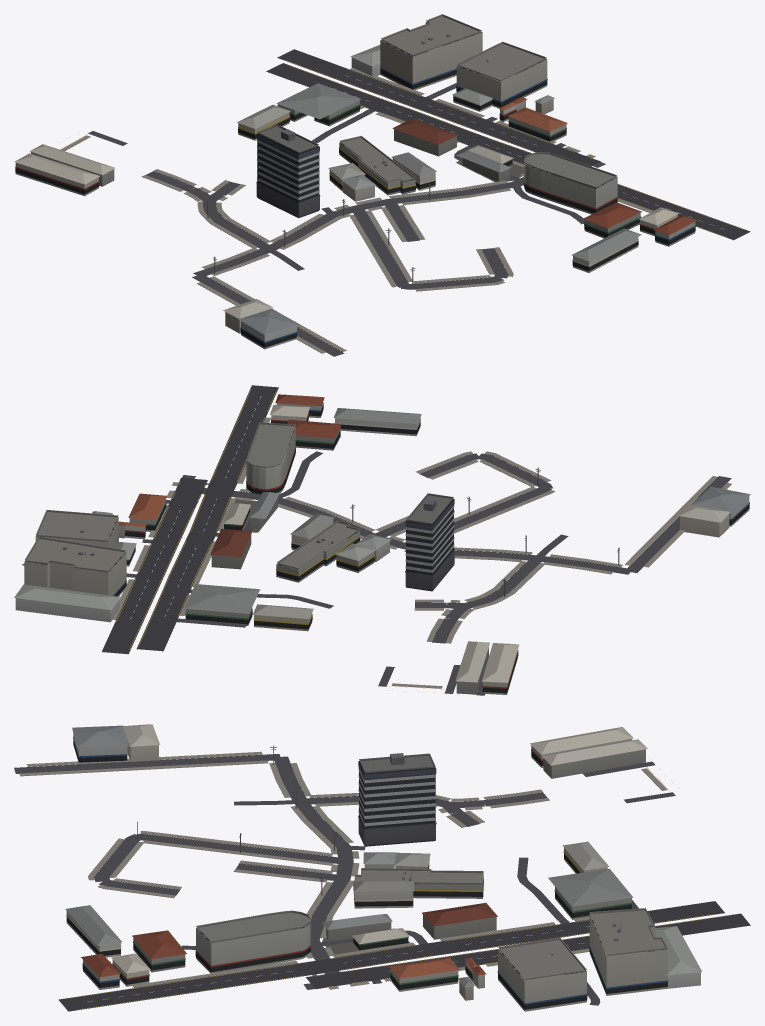
The picture shows the model from 3 angles, top to bottom: view 1: azimuth 30°, elevation 25°; view 2: azimuth 150°, elevation 25°; view 3: azimuth 270°, elevation 25°; orthographic projection. The views are drawn at different scales.
Parts seen in each view (by area): view 1: Buildings__r-14c-8-col, Roads_Major__r-14c-8, Roads_Minor__r-14c-8, Sidewalks__r-14c-8-col, Windows__r-14c-8, Virginia Food Inc.-col, Daughters of Saint Paul-col, Markings__r-14c-8, Kingdom Hall of Jehovah's Witnesses-col; view 2: Buildings__r-14c-8-col, Roads_Major__r-14c-8, Roads_Minor__r-14c-8, Sidewalks__r-14c-8-col, Windows__r-14c-8, Daughters of Saint Paul-col, Virginia Food Inc.-col, Markings__r-14c-8, Kingdom Hall of Jehovah's Witnesses-col, Shell-col; view 3: Buildings__r-14c-8-col, Roads_Minor__r-14c-8, Roads_Major__r-14c-8, Sidewalks__r-14c-8-col, Virginia Food Inc.-col, Windows__r-14c-8, Daughters of Saint Paul-col, Kingdom Hall of Jehovah's Witnesses-col, Shell-col, Markings__r-14c-8.
Part boxes in pixels (x1,y1,x2,y2): Buildings__r-14c-8-col: (14, 14, 697, 349); Roads_Major__r-14c-8: (266, 49, 750, 240); Roads_Minor__r-14c-8: (88, 83, 605, 356); Sidewalks__r-14c-8-col: (60, 68, 652, 353); Windows__r-14c-8: (15, 34, 695, 347); Virginia Food Inc.-col: (456, 41, 547, 108); Daughters of Saint Paul-col: (276, 83, 361, 126); Markings__r-14c-8: (52, 60, 742, 236); Kingdom Hall of Jehovah's Witnesses-col: (391, 152, 436, 190); Buildings__r-14c-8-col: (14, 394, 750, 694); Roads_Major__r-14c-8: (102, 385, 278, 654); Roads_Minor__r-14c-8: (22, 451, 731, 695); Sidewalks__r-14c-8-col: (111, 417, 731, 688); Windows__r-14c-8: (28, 403, 749, 693); Daughters of Saint Paul-col: (184, 584, 259, 625); Virginia Food Inc.-col: (35, 510, 118, 548); Markings__r-14c-8: (116, 390, 472, 694); Kingdom Hall of Jehovah's Witnesses-col: (290, 513, 334, 550); Shell-col: (223, 503, 250, 530); Buildings__r-14c-8-col: (65, 724, 702, 1000); Roads_Minor__r-14c-8: (14, 754, 675, 1005); Roads_Major__r-14c-8: (58, 901, 750, 1011); Sidewalks__r-14c-8-col: (19, 751, 667, 989); Virginia Food Inc.-col: (497, 938, 587, 1011); Windows__r-14c-8: (66, 737, 668, 993); Daughters of Saint Paul-col: (548, 868, 633, 919); Kingdom Hall of Jehovah's Witnesses-col: (352, 881, 414, 908); Shell-col: (352, 928, 409, 950); Markings__r-14c-8: (68, 757, 730, 1009).
Size of the model in its own units: 277 by 38.8 by 317.
